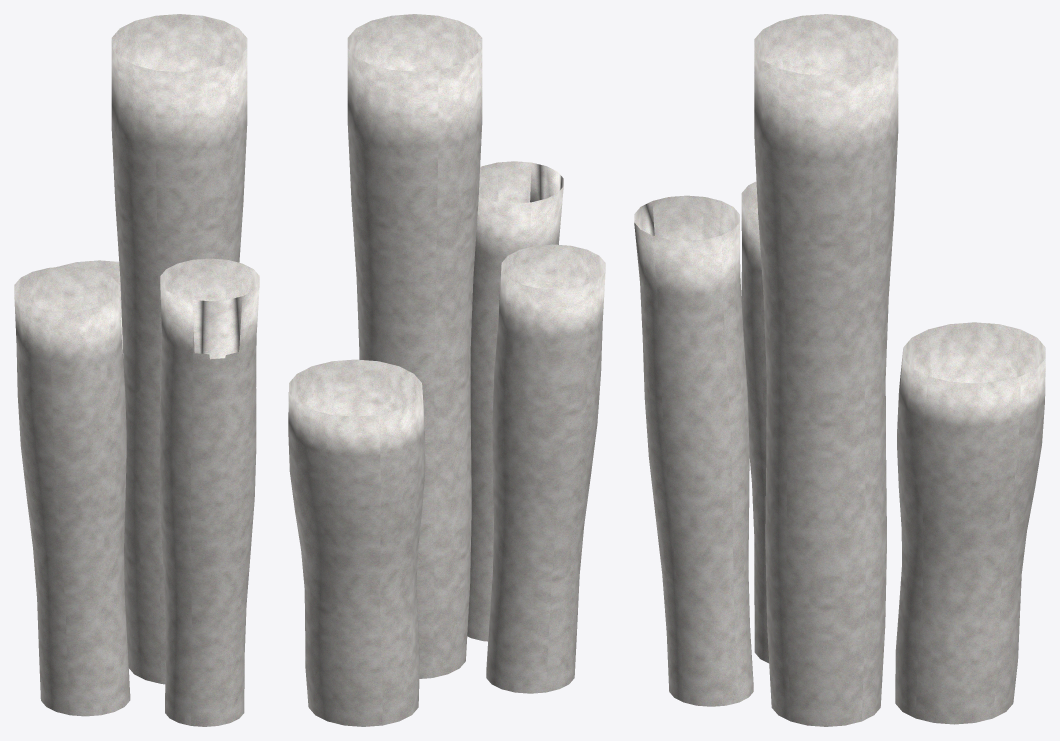
File: esponja_tubo.fbx
3 renders of one model, left to right at view 1: azimuth 30°, elevation 25°; view 2: azimuth 150°, elevation 25°; view 3: azimuth 270°, elevation 25°, orthographic. The views are drawn at different scales.
Visible parts, largest first — view 1: esponja_tubo; view 2: esponja_tubo; view 3: esponja_tubo.
Boxes of the visible parts, <box> form: esponja_tubo: <box>14,14,259,726</box>; esponja_tubo: <box>288,14,605,726</box>; esponja_tubo: <box>634,14,1045,726</box>.
Size of the model in its own units: 0.4699 by 1.2 by 0.6797.
Materials: 1 (1 with a texture image).
